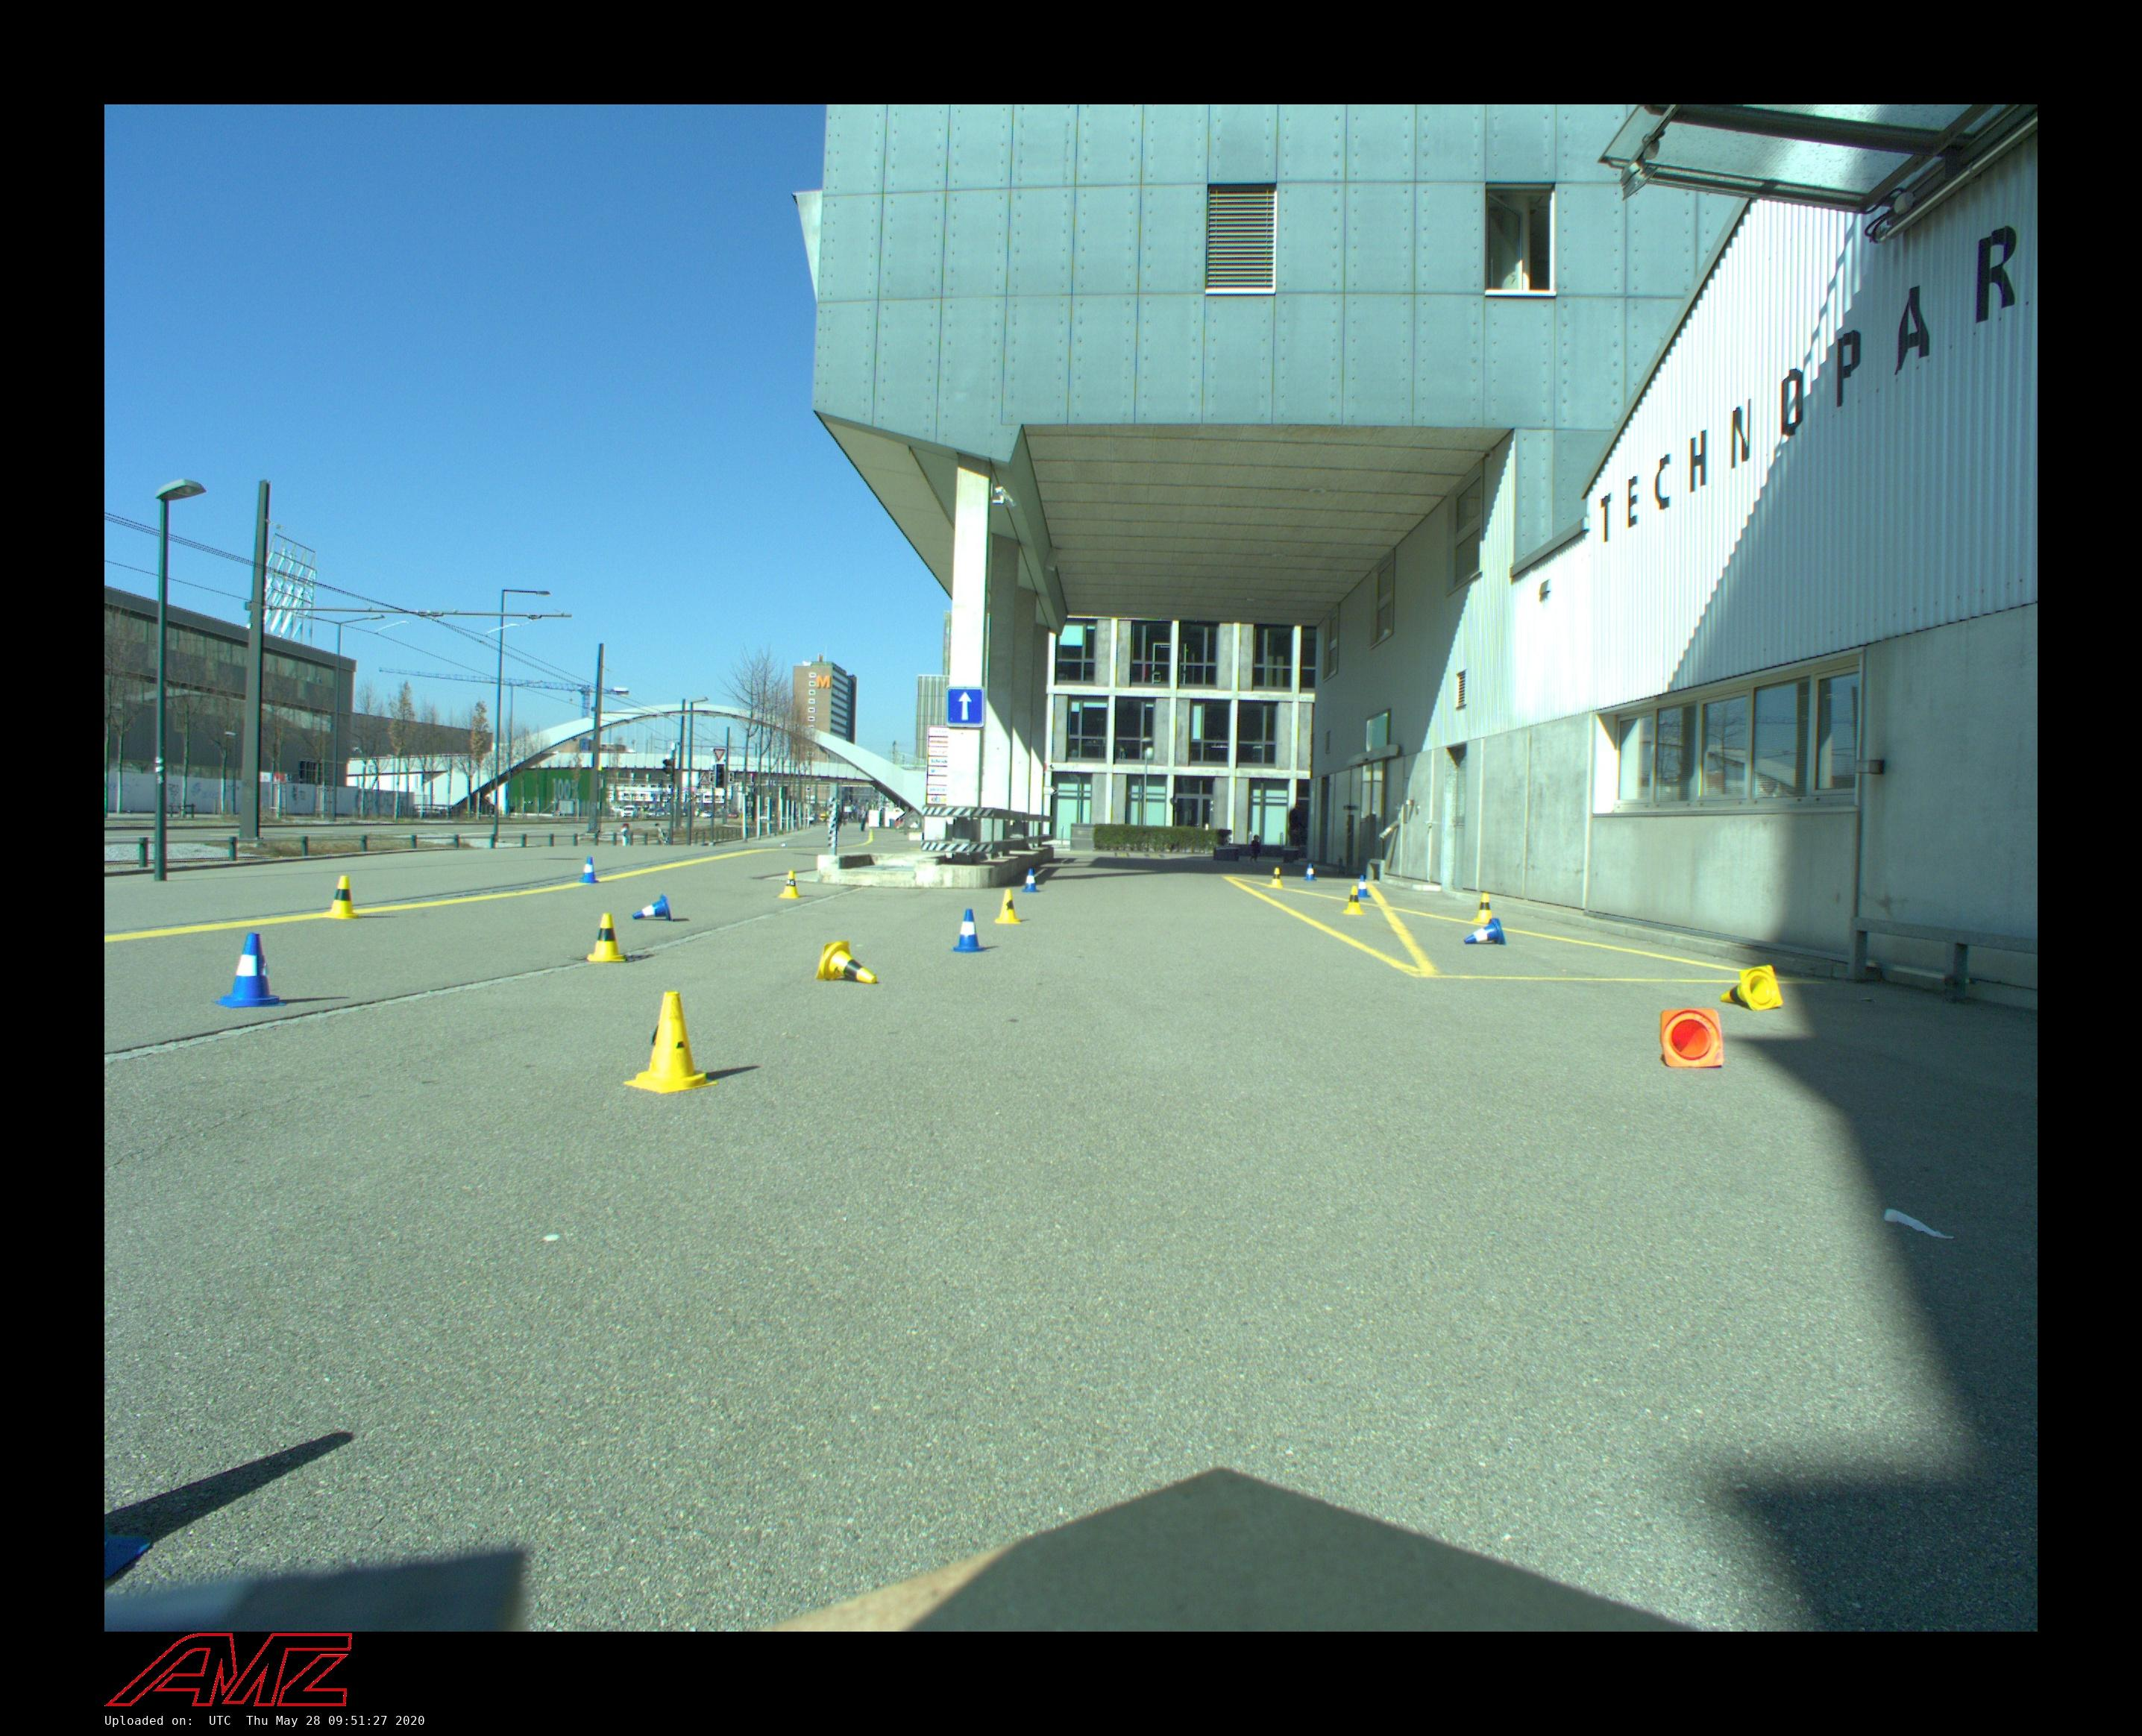blue_cone: (220, 932, 280, 1006), (953, 909, 985, 953), (1463, 918, 1506, 946), (633, 893, 671, 921), (579, 856, 599, 884), (1022, 868, 1040, 893), (1355, 875, 1371, 898), (1304, 863, 1316, 882)
orange_cone: (1660, 1008, 1726, 1066)
yellow_cone: (624, 992, 718, 1093), (1720, 965, 1784, 1011), (815, 941, 877, 983), (588, 914, 627, 962), (326, 875, 360, 919), (996, 889, 1021, 925), (1474, 893, 1495, 923), (1343, 886, 1364, 916), (780, 870, 801, 898), (1269, 868, 1284, 889)
